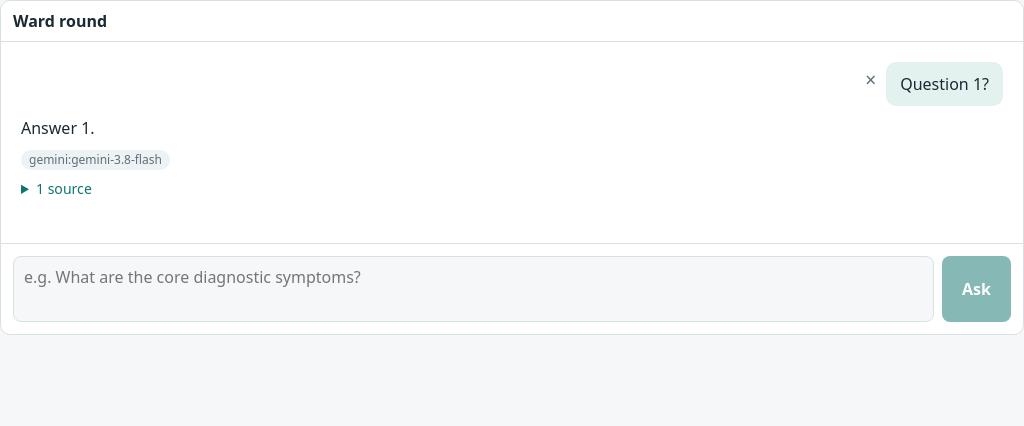
ChatPanel › shows each question, answer, model and sources
Check: the text "Question 1?" is shown, box left=886, top=62, right=1003, bottom=106
Check: the text "Answer 1." is shown, box left=21, top=117, right=95, bottom=139
Step 1. Click the heading "1 source" → (64, 188), box left=36, top=179, right=92, bottom=198
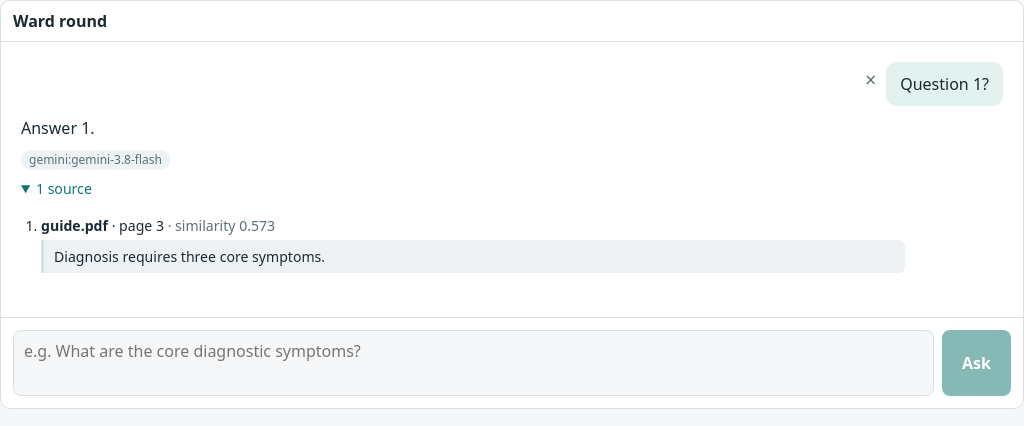
Check: the text "guide.pdf" is shown, box left=41, top=216, right=108, bottom=235
Check: the text "· page 3" is shown, box left=108, top=216, right=164, bottom=235
Check: the text "· similarity 0.573" is shown, box left=164, top=216, right=275, bottom=235
